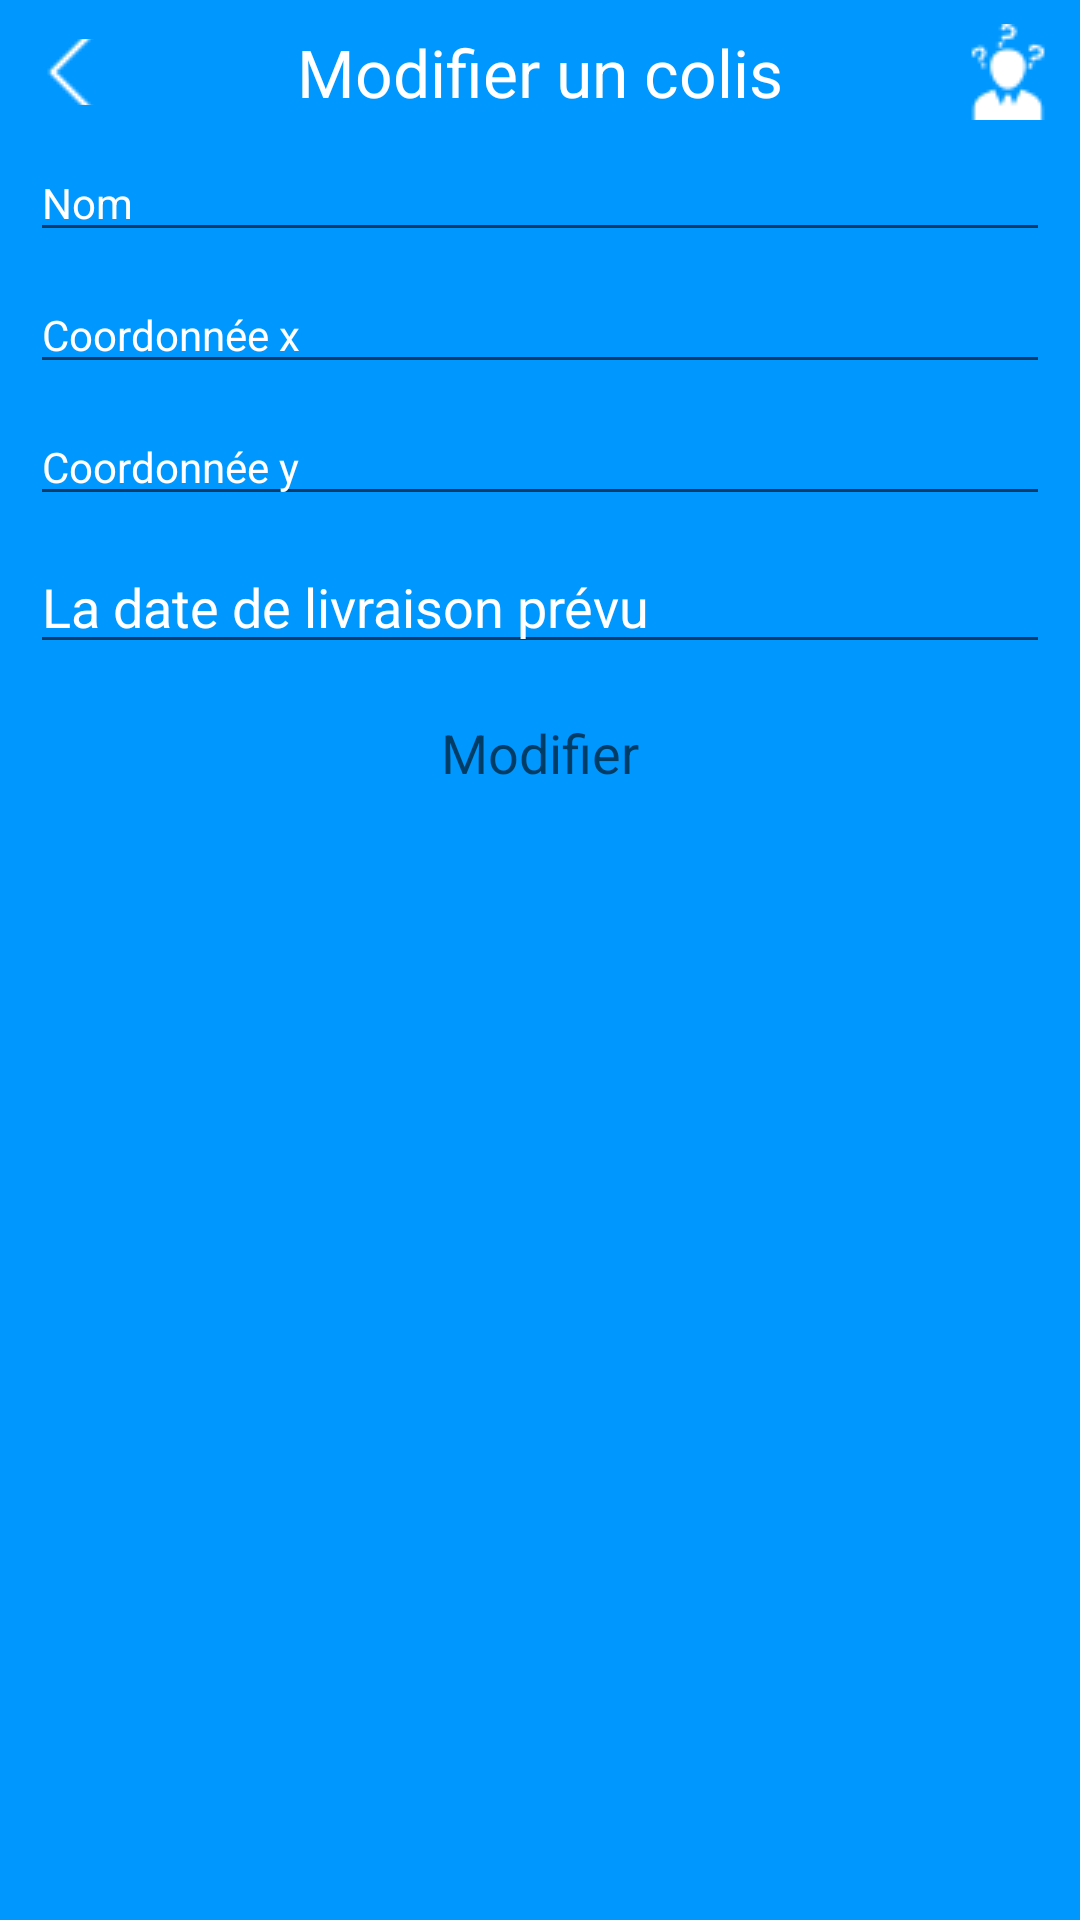

Where to tap for icons on this 1080x1920 app screen, as (x,y):
bouton de retour: (70,72)
faq: (1008,72)
